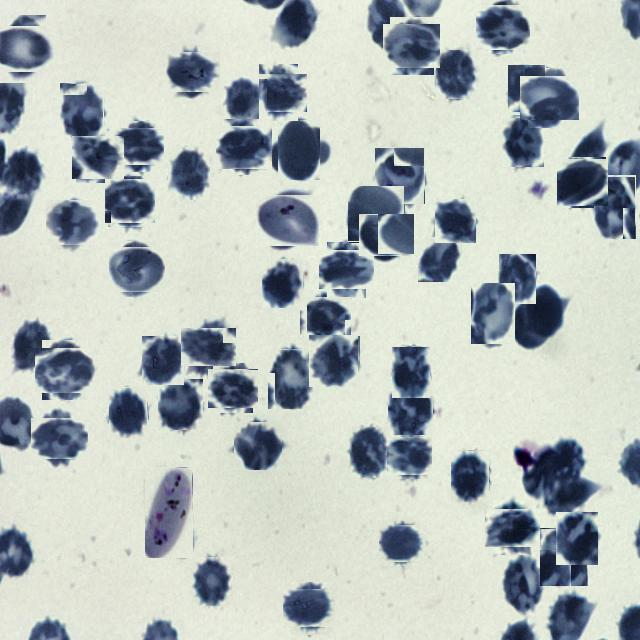red blood cell: (348, 186, 404, 242), (0, 20, 52, 77), (268, 349, 316, 409), (375, 147, 425, 204), (38, 344, 92, 396), (540, 528, 588, 586), (471, 284, 515, 346), (524, 72, 576, 124), (594, 176, 636, 240), (501, 554, 545, 615), (387, 20, 438, 72), (111, 243, 162, 294), (60, 83, 104, 142), (308, 336, 359, 386), (278, 120, 320, 180), (219, 122, 269, 172), (34, 414, 84, 464), (48, 198, 98, 248), (478, 2, 528, 52), (362, 210, 411, 259), (558, 158, 606, 207), (168, 146, 211, 200), (168, 48, 216, 96), (322, 246, 370, 294), (234, 422, 282, 470), (74, 133, 122, 181), (158, 379, 203, 430), (388, 384, 433, 435), (106, 178, 154, 225), (185, 324, 233, 371), (255, 68, 302, 116), (556, 512, 598, 565), (489, 504, 536, 551), (528, 284, 568, 337), (302, 294, 348, 340), (262, 258, 304, 308), (286, 586, 332, 631), (502, 118, 544, 167), (142, 336, 184, 385), (108, 387, 148, 438), (451, 450, 490, 502), (12, 319, 51, 371), (392, 346, 431, 398), (418, 236, 462, 282), (210, 366, 255, 410), (436, 50, 476, 99), (350, 427, 388, 478), (508, 64, 546, 115), (118, 124, 162, 168), (223, 79, 267, 122), (511, 298, 547, 350), (193, 557, 231, 606), (499, 254, 536, 304), (434, 200, 478, 242), (389, 435, 431, 477), (381, 523, 422, 564)
ring: (258, 192, 316, 250)
trophozoite: (145, 467, 193, 558)
